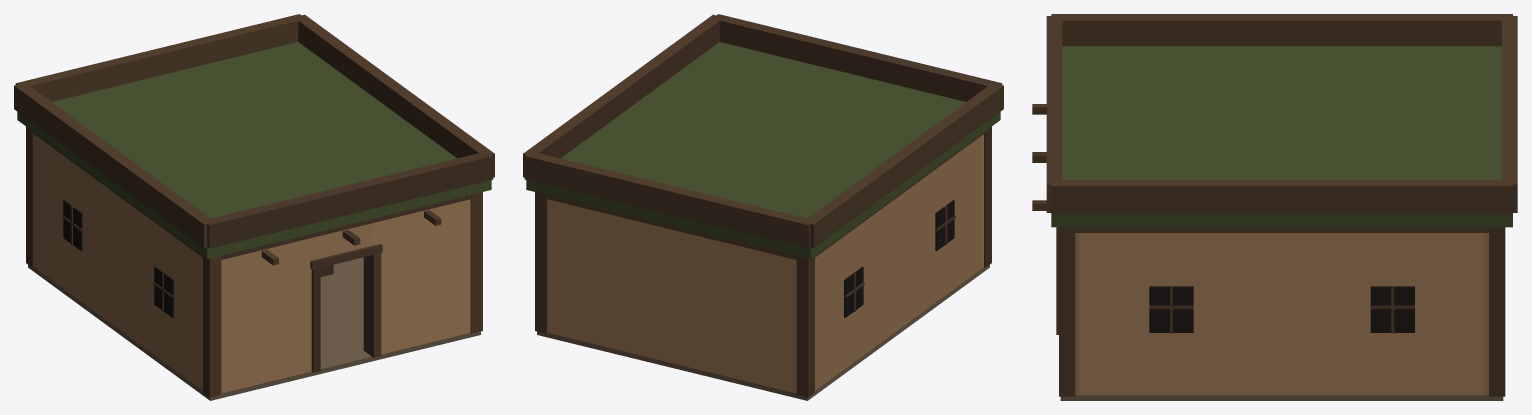
File: walk_steppe_house.glb
The picture shows the model from 3 angles, left to right: view 1: azimuth 30°, elevation 25°; view 2: azimuth 150°, elevation 25°; view 3: azimuth 270°, elevation 25°; orthographic projection. The views are drawn at different scales.
Visible parts, largest first — view 1: walk_steppe_house_roof, walk_steppe_house; view 2: walk_steppe_house_roof, walk_steppe_house; view 3: walk_steppe_house_roof, walk_steppe_house.
Boxes of the visible parts, box(x1,y1,x2,y2) form: walk_steppe_house_roof: box(14, 14, 494, 258); walk_steppe_house: box(26, 126, 482, 400); walk_steppe_house_roof: box(523, 14, 1003, 258); walk_steppe_house: box(535, 126, 991, 400); walk_steppe_house_roof: box(1046, 14, 1517, 227); walk_steppe_house: box(1032, 104, 1505, 400).
Size of what is drawn, in the model's own units: 6.45 by 3.85 by 7.67.
2 materials, 2 textured.
